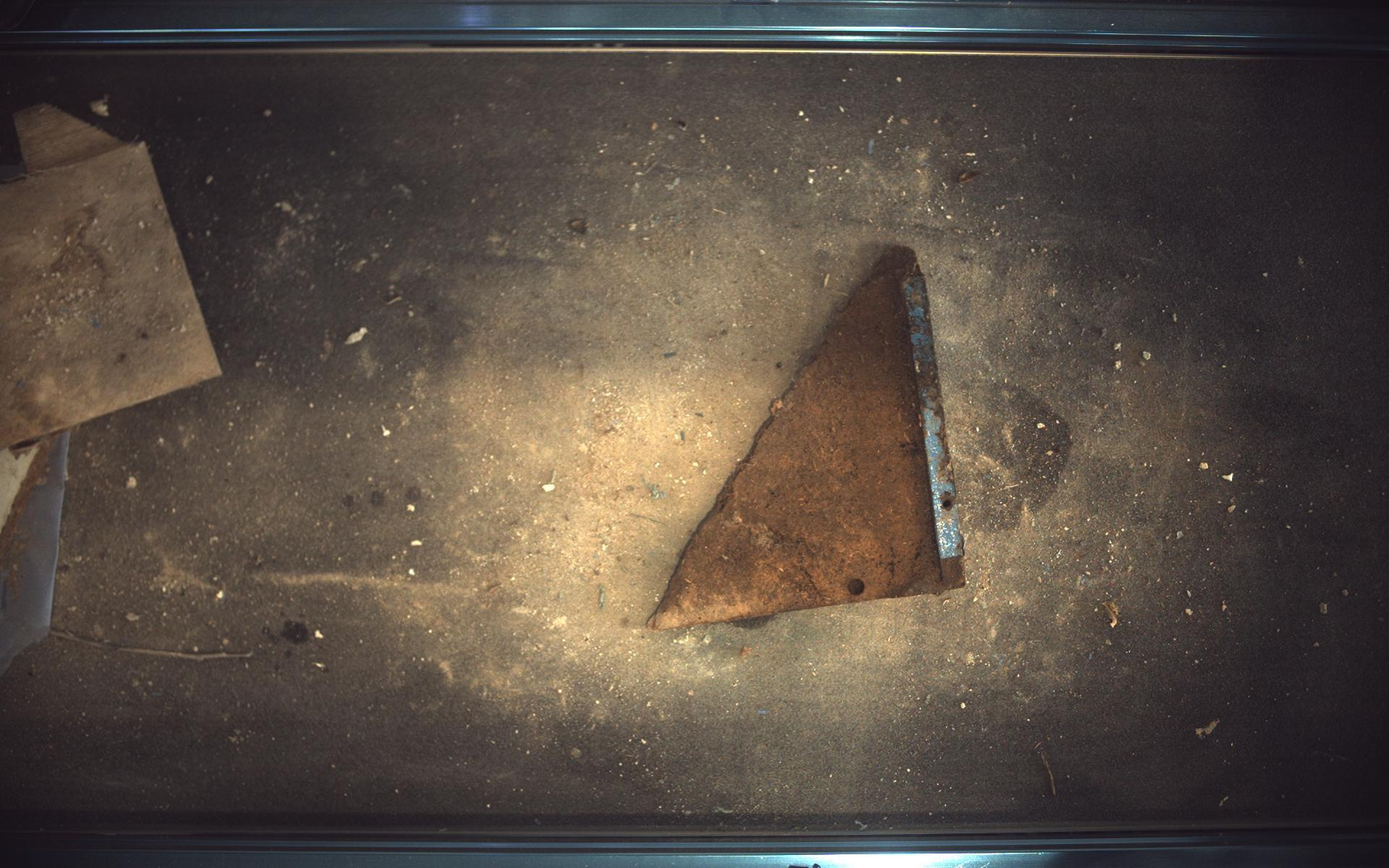wood: (649, 246, 966, 631), (1, 142, 219, 448), (12, 104, 124, 174), (1, 435, 54, 556)
